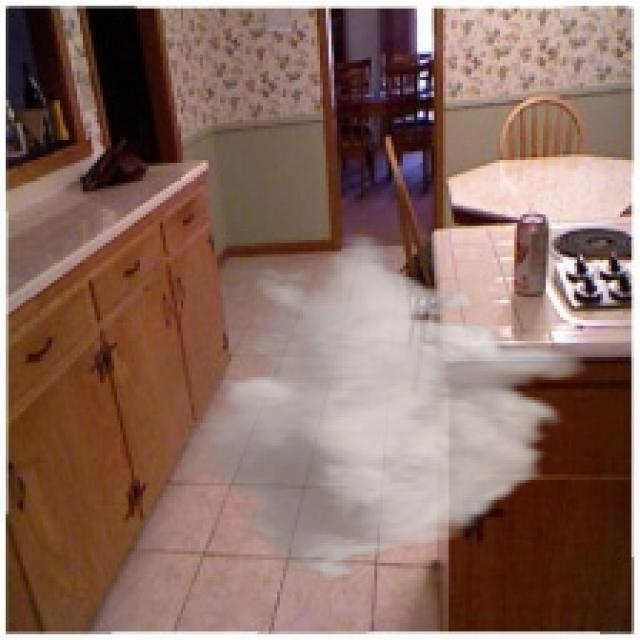smoke: (177, 231, 592, 583)
